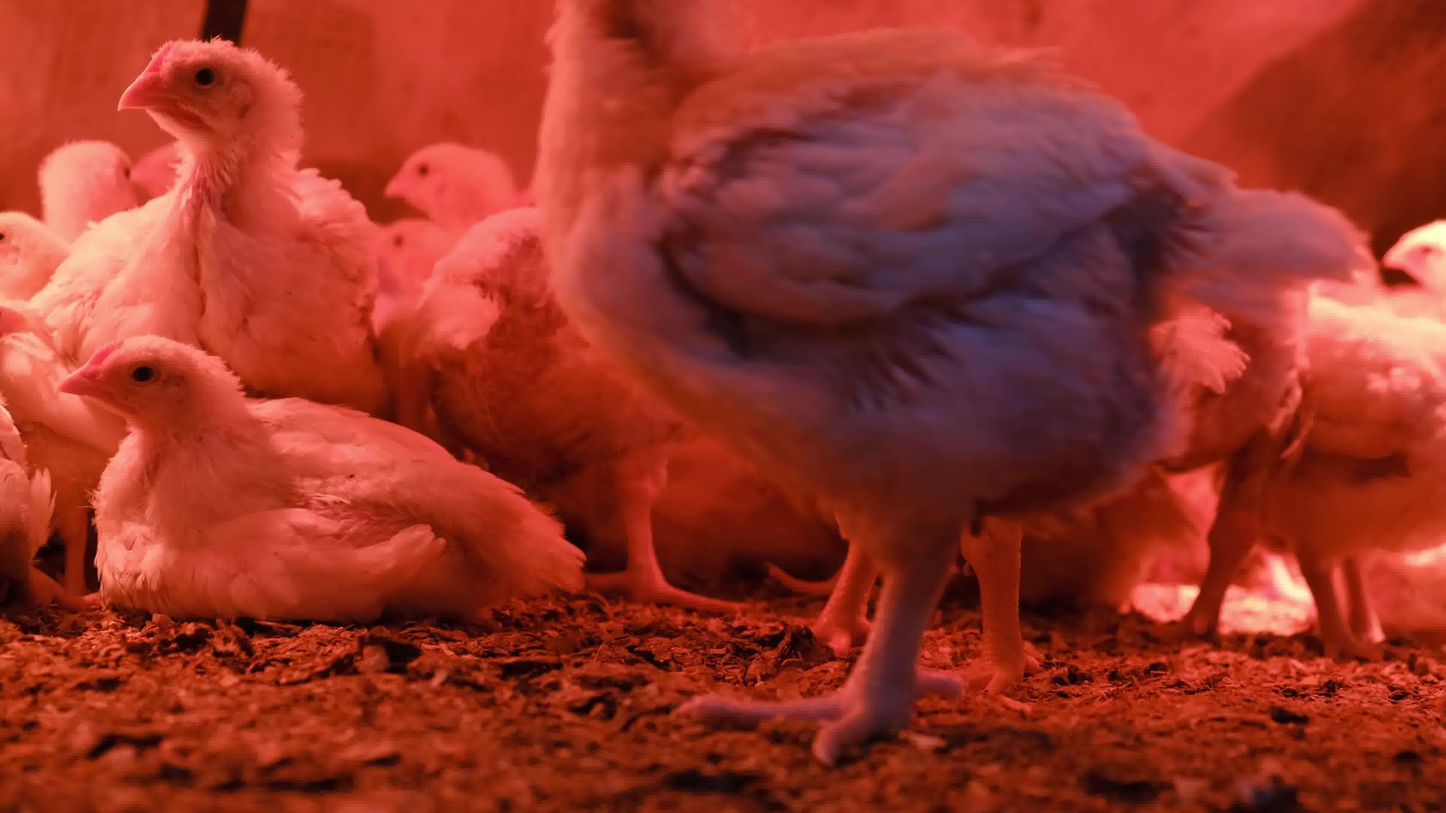AbNormal: (55, 335, 585, 622), (0, 300, 53, 610)
Normal: (543, 0, 1361, 771), (39, 32, 394, 413), (448, 222, 765, 616), (1171, 214, 1446, 655), (0, 204, 105, 571), (371, 211, 456, 432), (385, 136, 526, 261), (36, 142, 132, 232)
